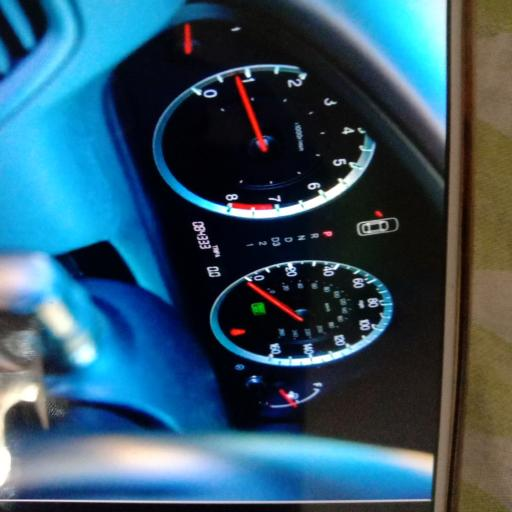tachometer: (154, 65, 375, 219)
